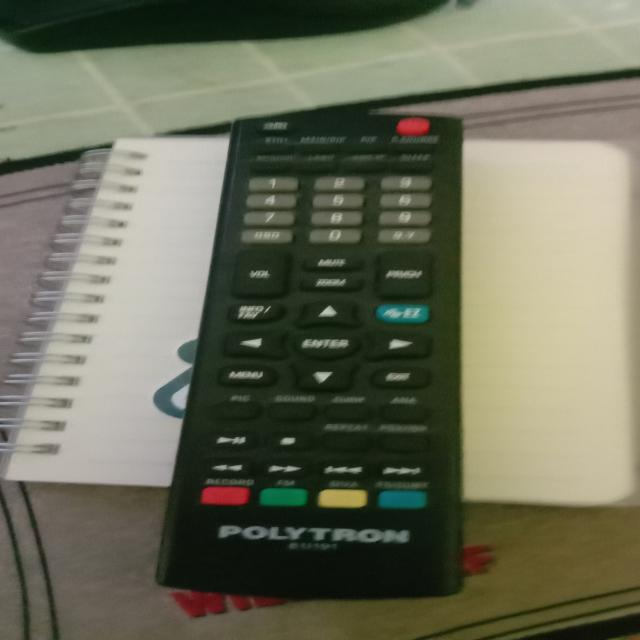remote: (177, 108, 482, 602)
